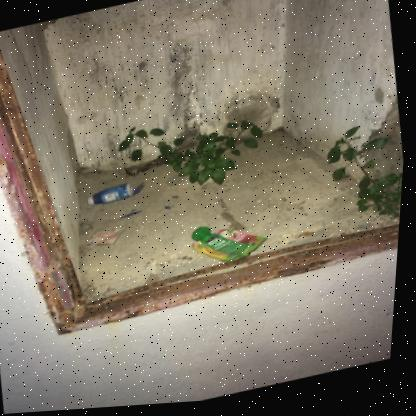Plastic: (194, 229, 270, 265), (89, 184, 135, 206), (86, 226, 131, 246), (132, 182, 145, 197), (122, 212, 144, 219), (166, 207, 173, 210), (132, 210, 138, 213), (173, 198, 180, 200)
